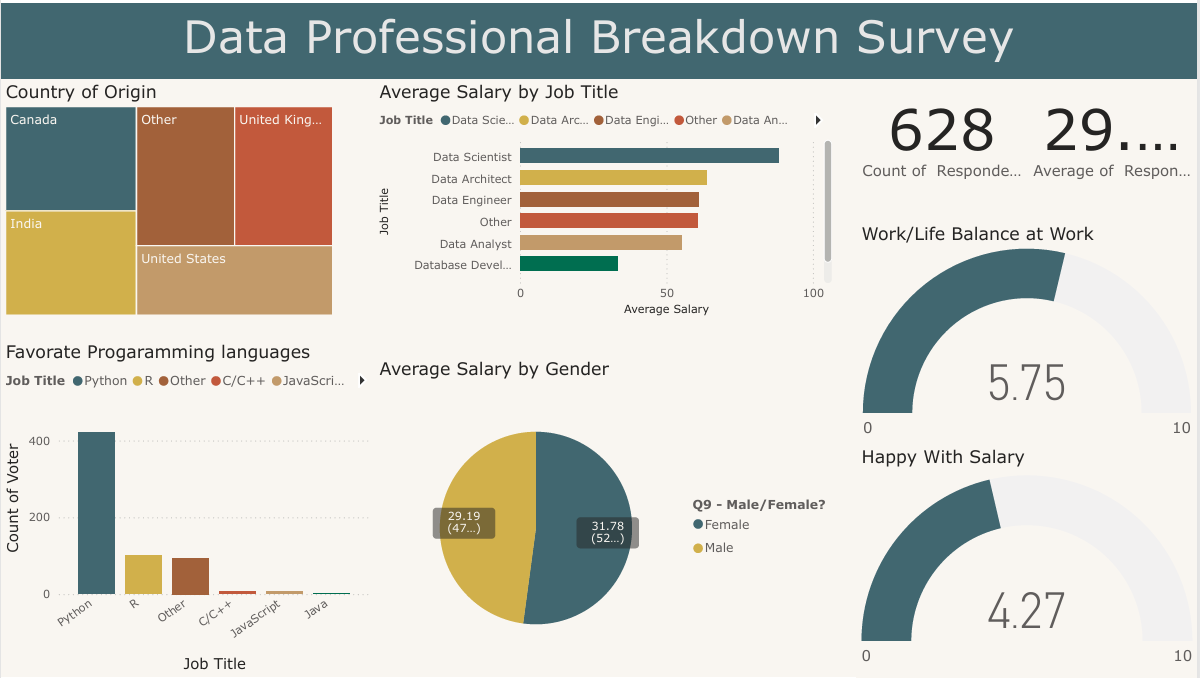

What the dashboard file says about the page in this screenshot:
{"tool":"powerbi","page":{"name":"Page 1","canvas":[1280,720],"ordinal":0},"visuals":[{"type":"textbox","box":[0,0,1279.4,81.3],"z":0},{"type":"card","fields":{"Values":["Count(Data Professional Survey.Unique ID)"]},"box":[916,82,182,116],"z":1000},{"type":"card","fields":{"Values":["Avg(Data Professional Survey.Q10 - Current Age)"]},"box":[1098,82,182,116],"z":2000},{"type":"barChart","title":" Average Salary by Job Title","fields":{"Category":["Data Professional Survey.Q1 - Which Title Best Fits your Current Role?.1"],"Y":["Avg(Data Professional Survey.Average_Salary)"],"Series":["Data Professional Survey.Q1 - Which Title Best Fits your Current Role?.1"]},"box":[400,82,494,256],"z":3000},{"type":"columnChart","title":"Favorate Progaramming languages","fields":{"Category":["Data Professional Survey.Q5 - Favorite Programming Language.1"],"Y":["CountNonNull(Data Professional Survey.Unique ID)"],"Series":["Data Professional Survey.Q5 - Favorite Programming Language.1"]},"box":[0,360,400,360],"z":4000},{"type":"treemap","title":"Country of Origin","fields":{"Values":["Count(Data Professional Survey.Q11 - Which Country do you live in?.1)"],"Group":["Data Professional Survey.Q11 - Which Country do you live in?.1"]},"box":[0,82,360,256],"z":5000},{"type":"gauge","title":"Work/Life Balance at Work","fields":{"Y":["Avg(Data Professional Survey.Q6 - How Happy are you in your Current Position with the following? (Work/Life Balance))"],"MinValue":["Min(Data Professional Survey.Q6 - How Happy are you in your Current Position with the following? (Work/Life Balance))"],"MaxValue":["Max(Data Professional Survey.Q6 - How Happy are you in your Current Position with the following? (Work/Life Bal"]},"box":[916,234,364,238],"z":5001},{"type":"gauge","title":"Happy With Salary","fields":{"Y":["Avg(Data Professional Survey.Q6 - How Happy are you in your Current Position with the following? (Salary))"],"MinValue":["Min(Data Professional Survey.Q6 - How Happy are you in your Current Position with the following? (Salary))1"],"MaxValue":["Max(Data Professional Survey.Q6 - How Happy are you in your Current Position with the following? (Salary))2"]},"box":[916,472,364,248],"z":5002},{"type":"pieChart","title":"Average Salary by Gender","fields":{"Category":["Data Professional Survey.Q9 - Male/Female?"],"Y":["Avg(Data Professional Survey.Q10 - Current Age)"]},"box":[400,378,494,342],"z":5003}]}

Visuals, with their boxes in screenshot pixels (x1, y1, x2, y2), scaled from the page's 1280x720 canvas onto the 1200x678 screenshot:
textbox: <region>0, 0, 1199, 77</region>
card - Count(Data Professional Survey.Unique ID): <region>859, 77, 1029, 186</region>
card - Avg(Data Professional Survey.Q10 - Current Age): <region>1029, 77, 1199, 186</region>
" Average Salary by Job Title" barChart: <region>375, 77, 838, 318</region>
"Favorate Progaramming languages" columnChart: <region>0, 339, 375, 677</region>
"Country of Origin" treemap: <region>0, 77, 338, 318</region>
"Work/Life Balance at Work" gauge: <region>859, 220, 1199, 444</region>
"Happy With Salary" gauge: <region>859, 444, 1199, 677</region>
"Average Salary by Gender" pieChart: <region>375, 356, 838, 677</region>
